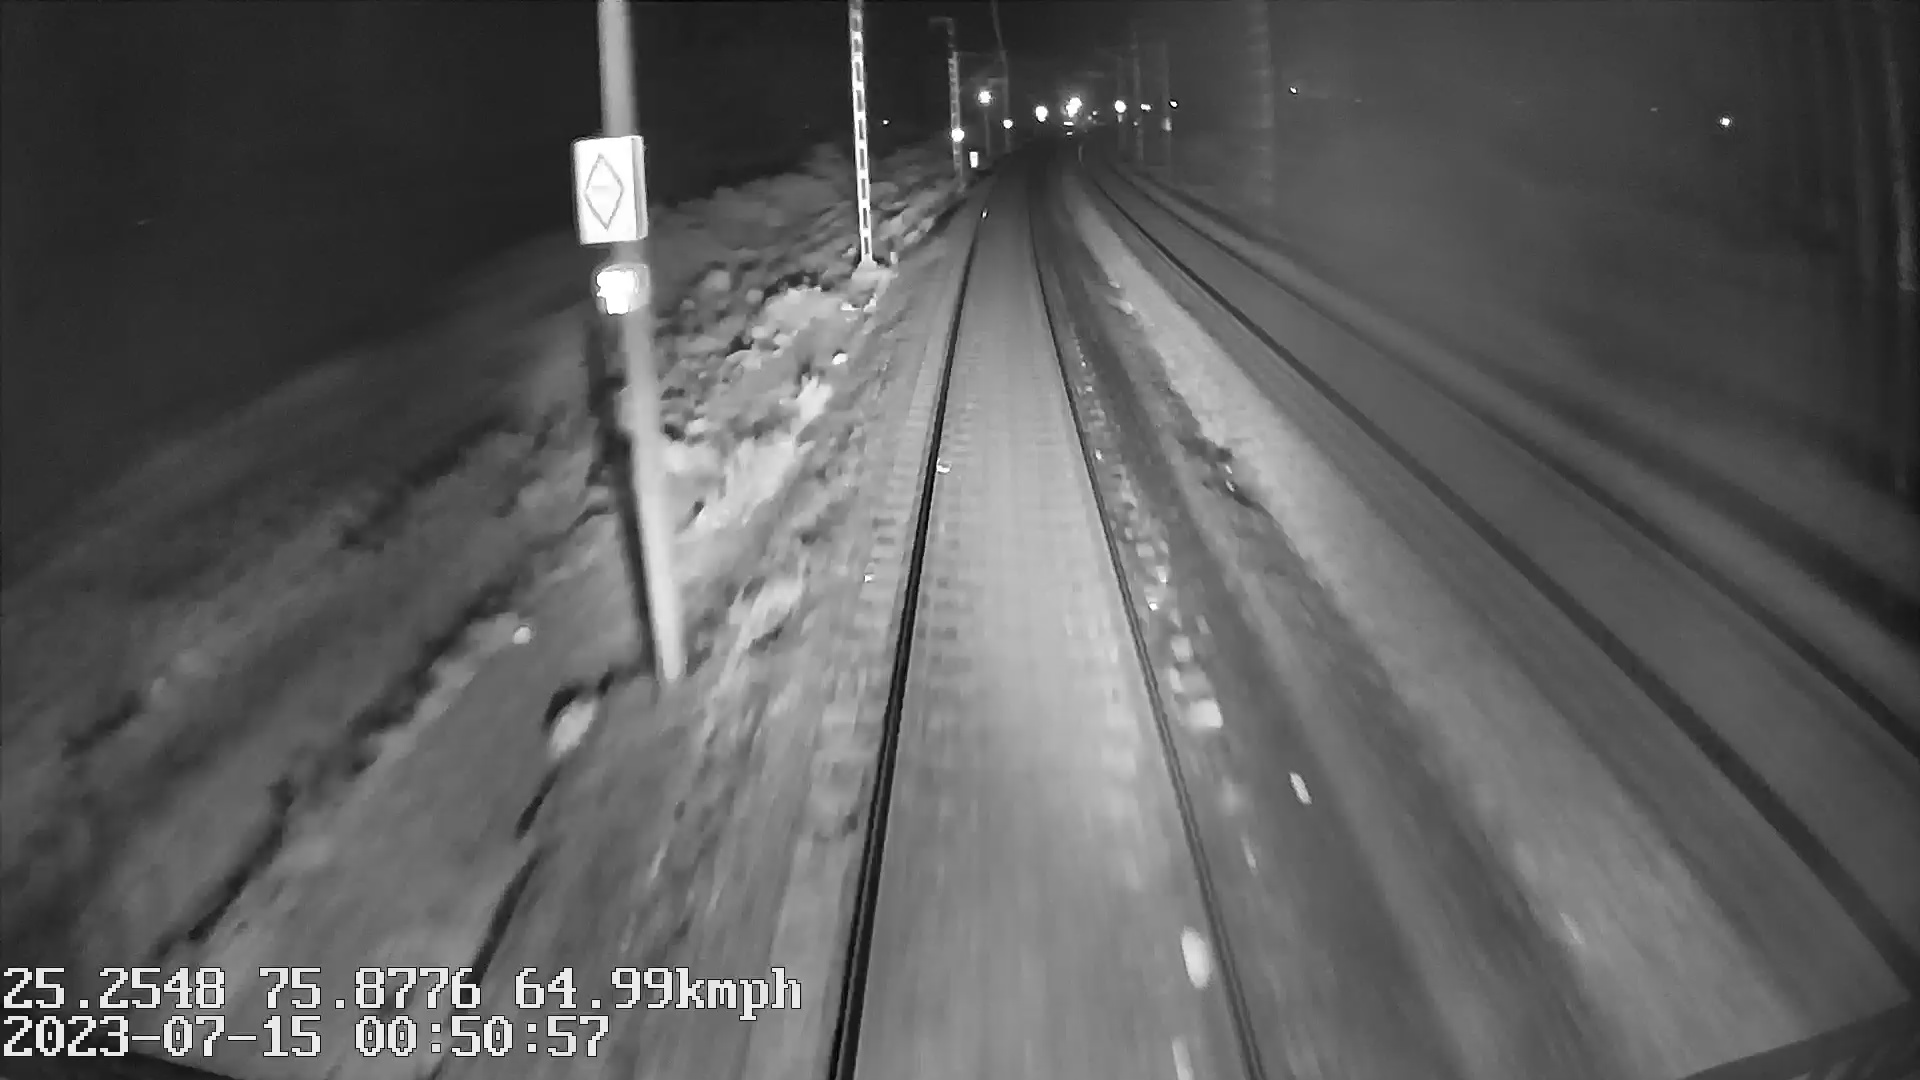track1: (847, 210, 1251, 1048)
track2: (1117, 199, 1911, 876)
